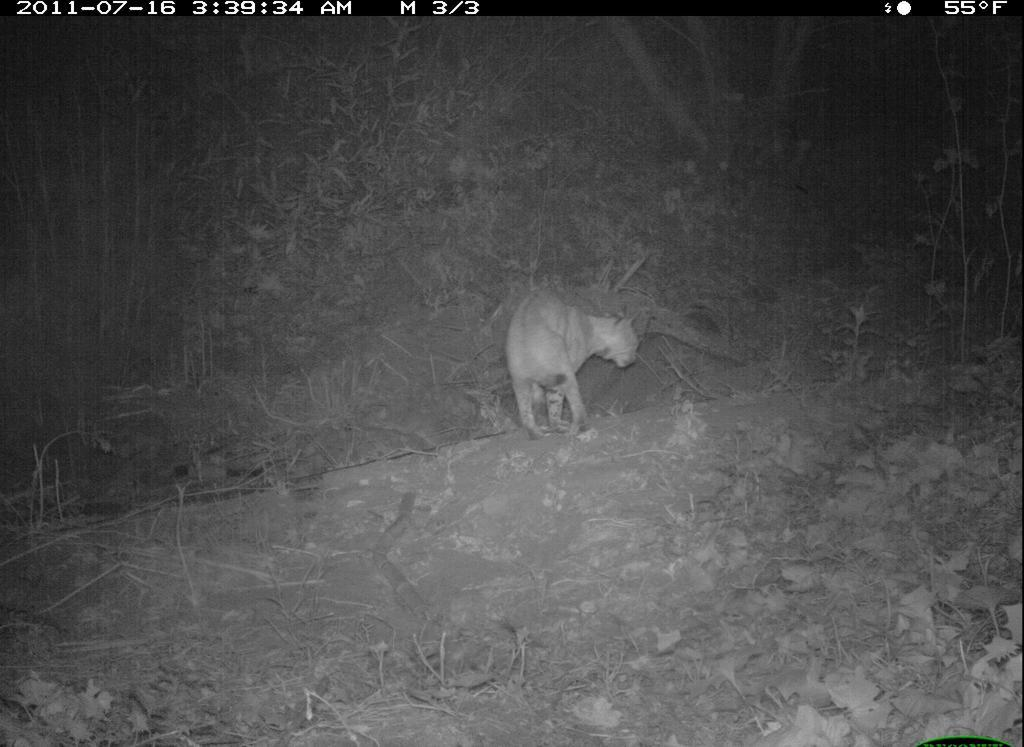bobcat: (501, 278, 646, 446)
